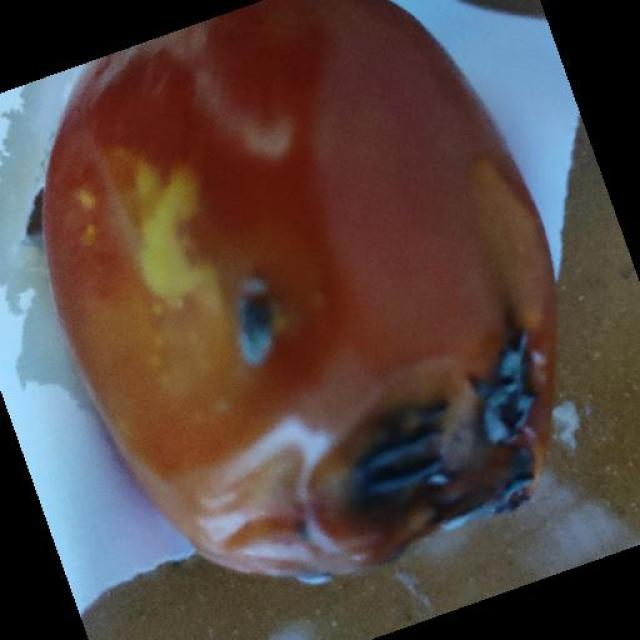Stale_tomato: (33, 41, 640, 573)
